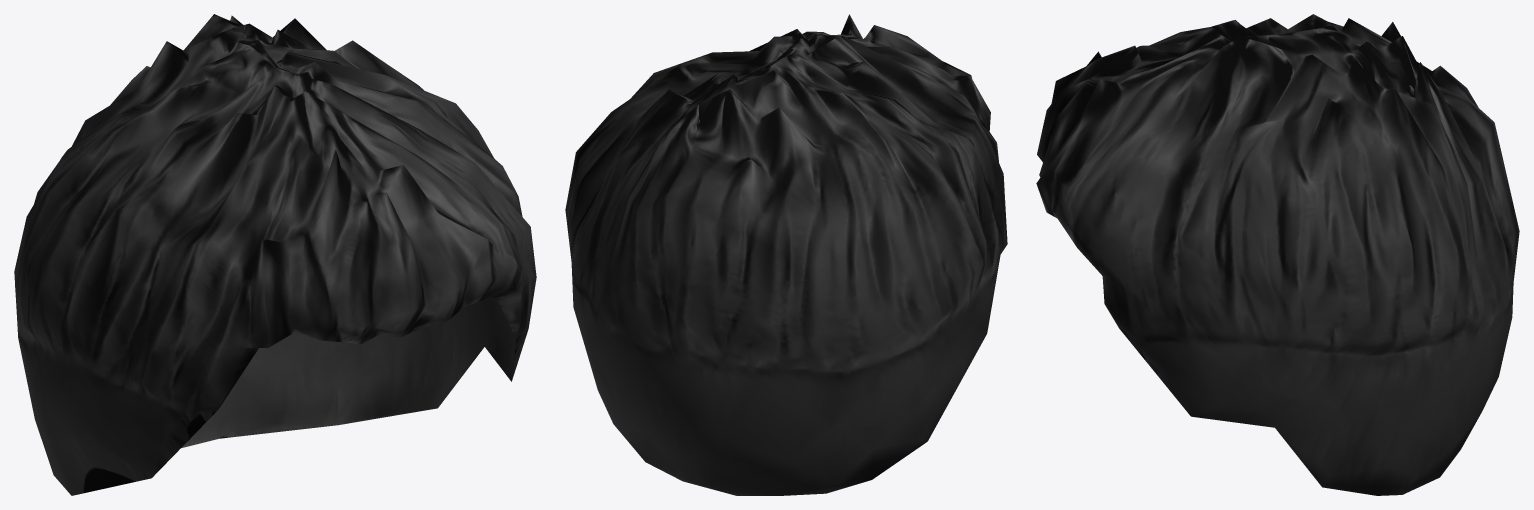
File: AF_M_hair_12.fbx
3 views of the same model, side by side, from view 1: azimuth 30°, elevation 25°; view 2: azimuth 150°, elevation 25°; view 3: azimuth 270°, elevation 25° (orthographic). The views are drawn at different scales.
Parts seen in each view (by area): view 1: AF_M_hair_12; view 2: AF_M_hair_12; view 3: AF_M_hair_12.
Boxes of the visible parts, x1,y1,x2,y2 form: AF_M_hair_12: (14,14,536,495); AF_M_hair_12: (565,14,1007,495); AF_M_hair_12: (1036,14,1519,495).
Size of the model in its own units: 715 by 700 by 728.
